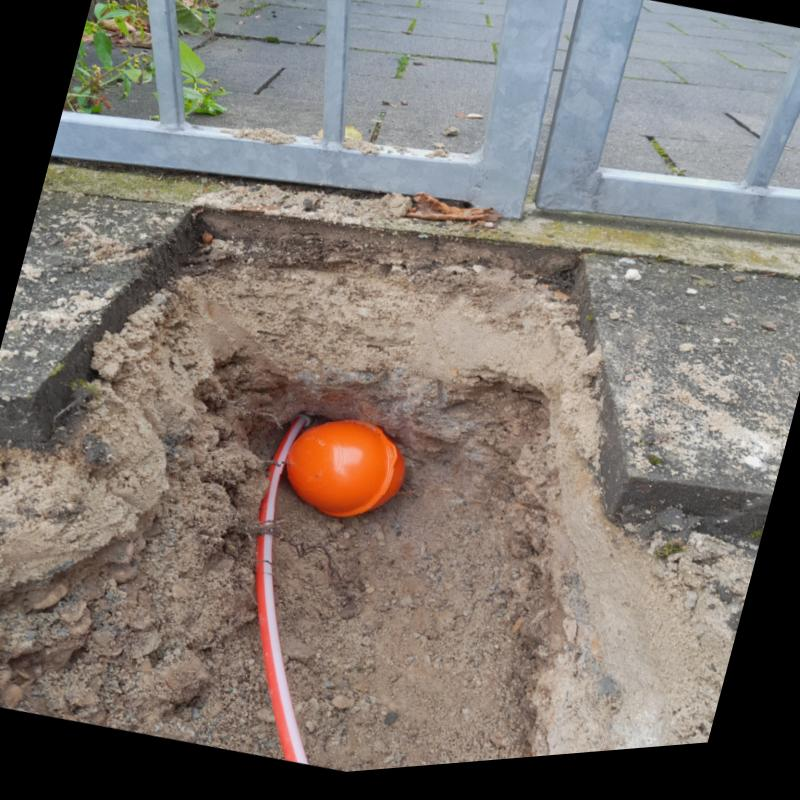Kugelmarker: (282, 425, 405, 524)
